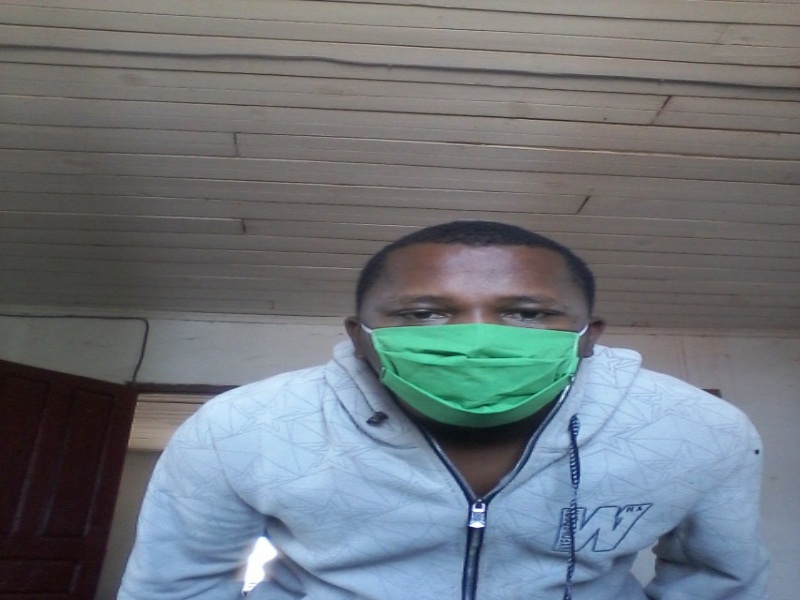ManaoArotava: (341, 211, 620, 438)
